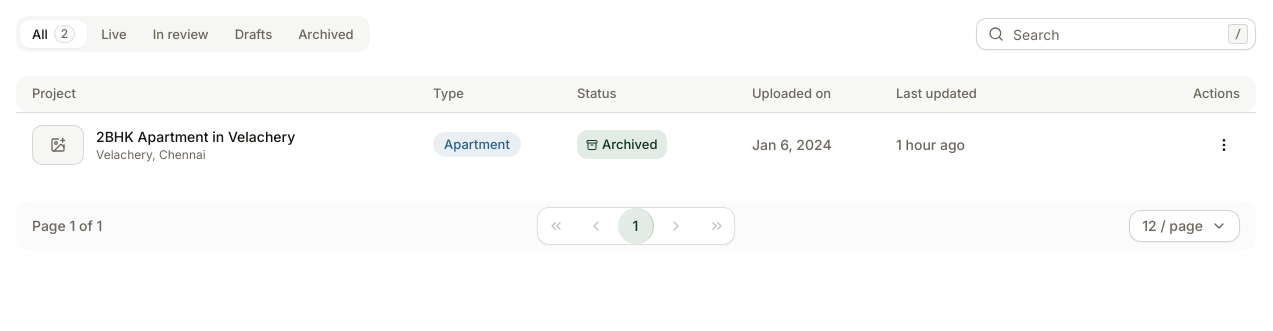
Test: DesignerProjectsList › explains archived on keyboard focus and dismisses on Escape
This screenshot has width=1273, height=331.
Focus the button "Archived". click: (622, 144)
box: [577,130,666,159]
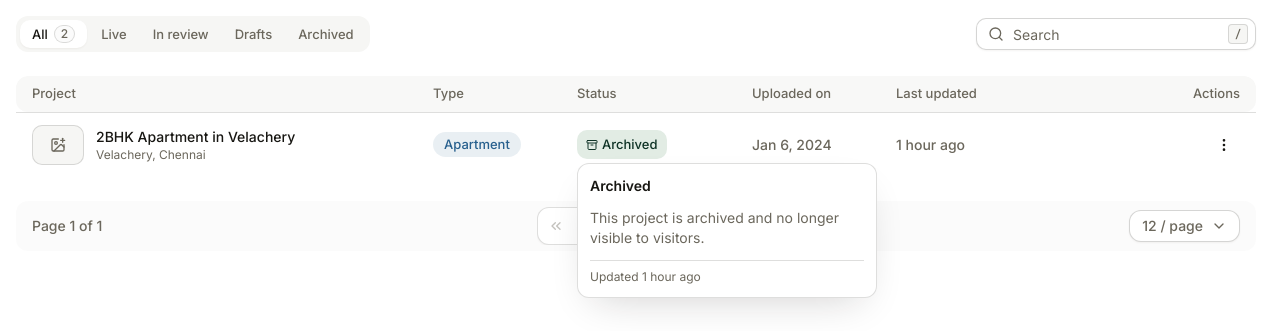
Check: the tooltip shows "no longer visible", box [590,209,839,246]
Press Escape
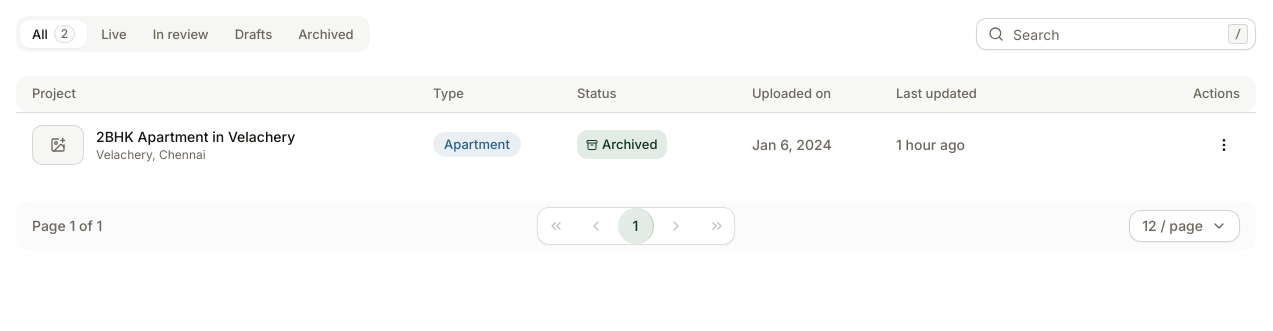
Check: the tooltip is gone
